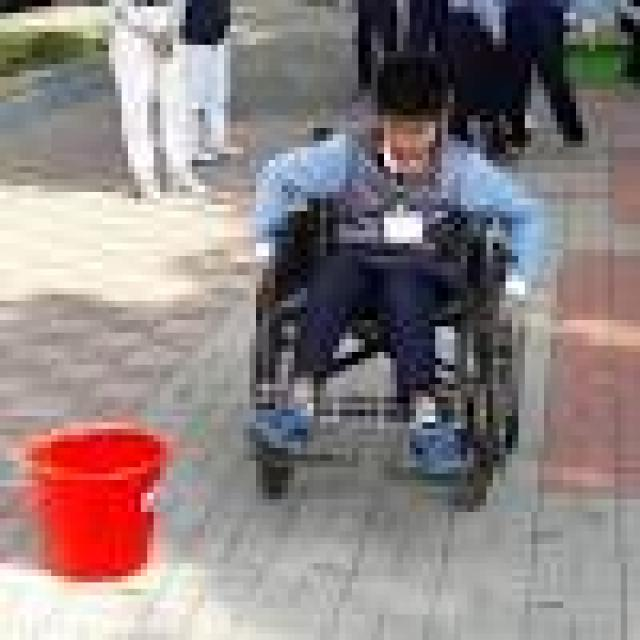wheelchairs: (224, 108, 538, 506)
